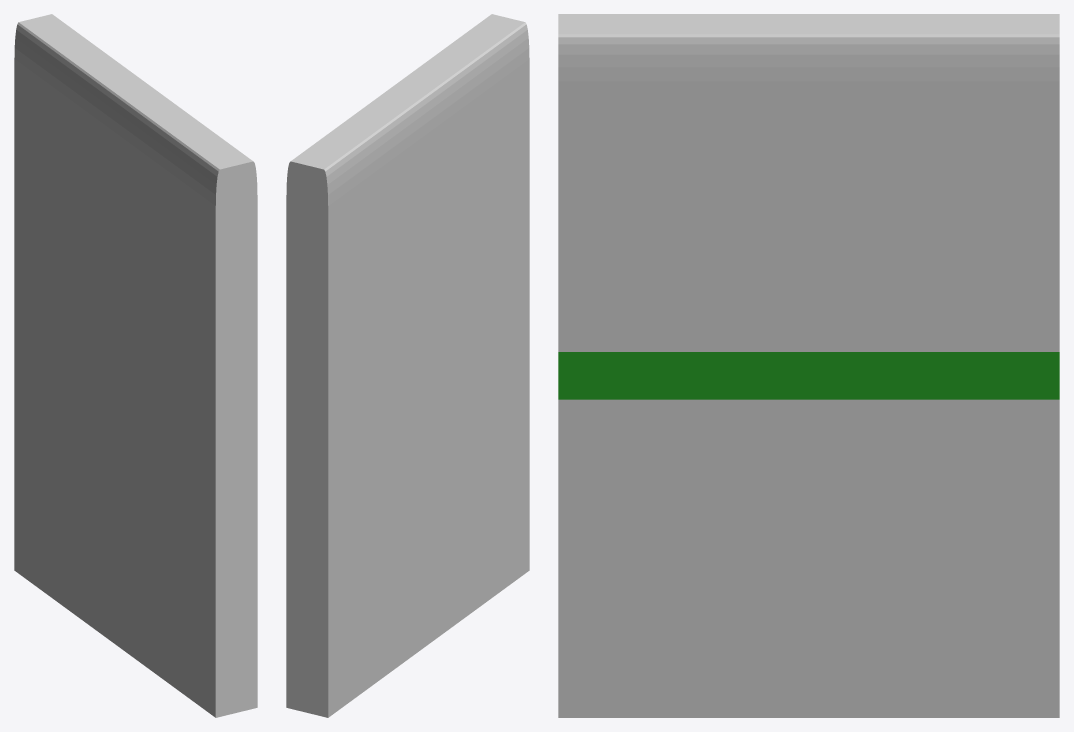
Rendered from wall.glb.
3 renders of one model, left to right at view 1: azimuth 30°, elevation 25°; view 2: azimuth 150°, elevation 25°; view 3: azimuth 270°, elevation 25°, orthographic. The views are drawn at different scales.
Parts seen in each view (by area): view 1: Cube; view 2: Cube; view 3: Cube.
Boxes of the visible parts, x1,y1,x2,y2 form: Cube: (14, 14, 257, 717); Cube: (286, 14, 529, 717); Cube: (558, 14, 1059, 717).
Bounding box in the file's own units: 0.2392 × 3 × 2.
